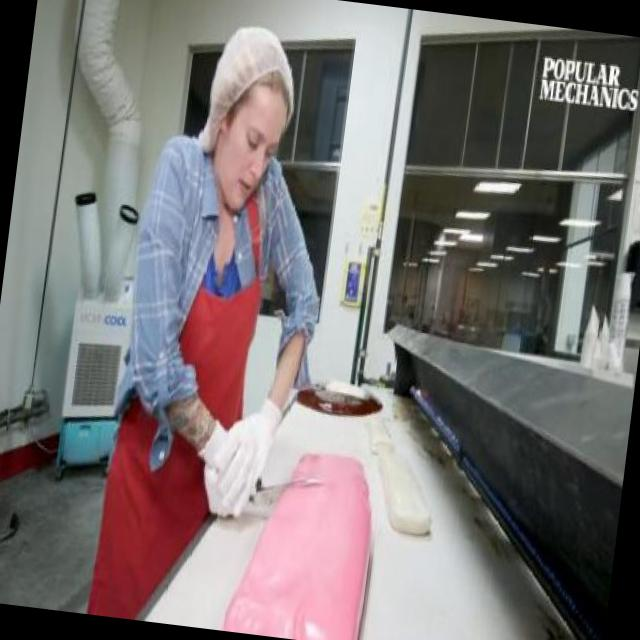hairnet: (211, 24, 304, 96)
